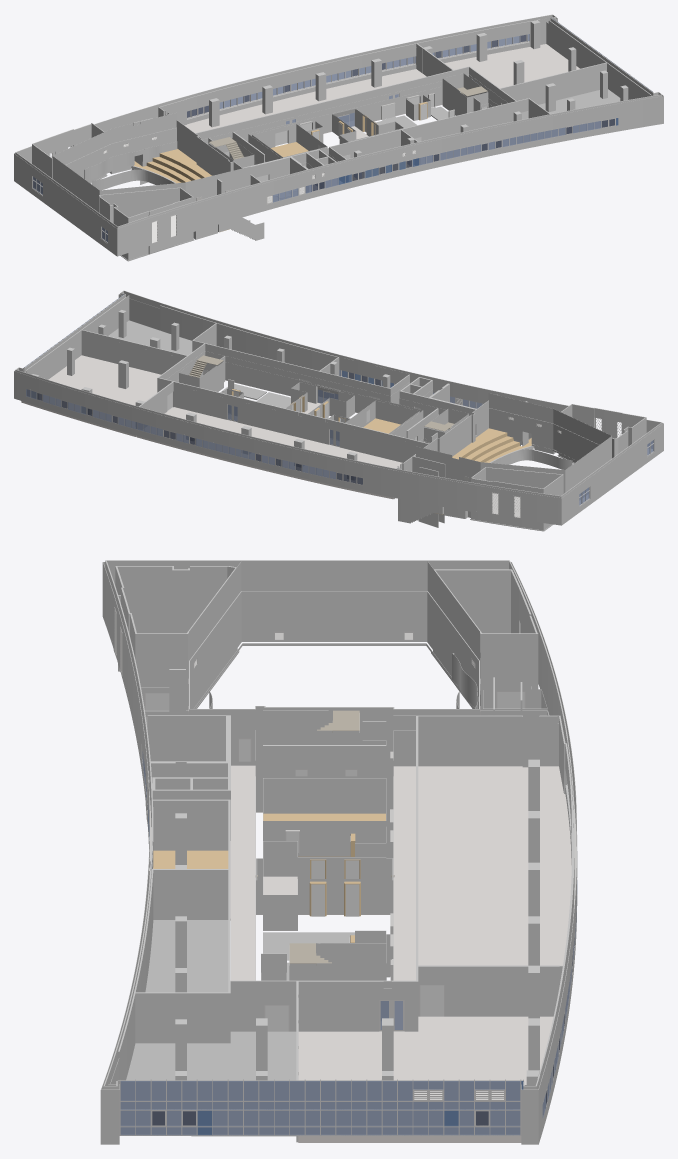
3 renders of one model, top to bottom at view 1: azimuth 30°, elevation 25°; view 2: azimuth 150°, elevation 25°; view 3: azimuth 270°, elevation 25°, orthographic. The views are drawn at different scales.
Visible parts, largest first — view 1: A8_6F_Wall, A8_6F_Floor, A8_6F_WindowGlass, A8_6F_Pillar, A8_6F_WindowFrame, A8_6F_Stair, A8_6F_Door, A8_6F_Vent, A8_6F_Elev.; view 2: A8_6F_Wall, A8_6F_Floor, A8_6F_WindowGlass, A8_6F_Pillar, A8_6F_WindowFrame, A8_6F_Stair, A8_6F_Door, A8_6F_Vent, A8_6F_Elev.; view 3: A8_6F_Wall, A8_6F_Floor, A8_6F_WindowGlass, A8_6F_Pillar, A8_6F_WindowFrame, A8_6F_Door, A8_6F_Elev., A8_6F_Vent, A8_6F_Stair.
Boxes of the visible parts, x1,y1,x2,y2 form: A8_6F_Wall: (14, 14, 663, 260); A8_6F_Floor: (90, 44, 620, 261); A8_6F_WindowGlass: (219, 18, 652, 202); A8_6F_Pillar: (209, 20, 628, 177); A8_6F_WindowFrame: (32, 17, 653, 242); A8_6F_Stair: (140, 86, 487, 183); A8_6F_Door: (224, 79, 528, 181); A8_6F_Vent: (50, 136, 415, 243); A8_6F_Elev.: (311, 102, 427, 140); A8_6F_Wall: (14, 290, 663, 530); A8_6F_Floor: (21, 320, 574, 531); A8_6F_WindowGlass: (25, 294, 483, 479); A8_6F_Pillar: (32, 310, 390, 479); A8_6F_WindowFrame: (23, 294, 654, 505); A8_6F_Stair: (189, 355, 526, 462); A8_6F_Door: (167, 369, 476, 447); A8_6F_Vent: (455, 398, 621, 518); A8_6F_Elev.: (231, 389, 345, 422); A8_6F_Wall: (100, 560, 577, 1144); A8_6F_Floor: (113, 650, 571, 1142); A8_6F_WindowGlass: (120, 751, 577, 1135); A8_6F_Pillar: (175, 759, 539, 1085); A8_6F_WindowFrame: (119, 743, 577, 1135); A8_6F_Door: (144, 691, 525, 1031); A8_6F_Elev.: (309, 833, 360, 942); A8_6F_Vent: (114, 607, 504, 1100); A8_6F_Stair: (289, 710, 359, 965).
Bounding box in the file's own units: 89.2 × 10.45 × 34.02.
